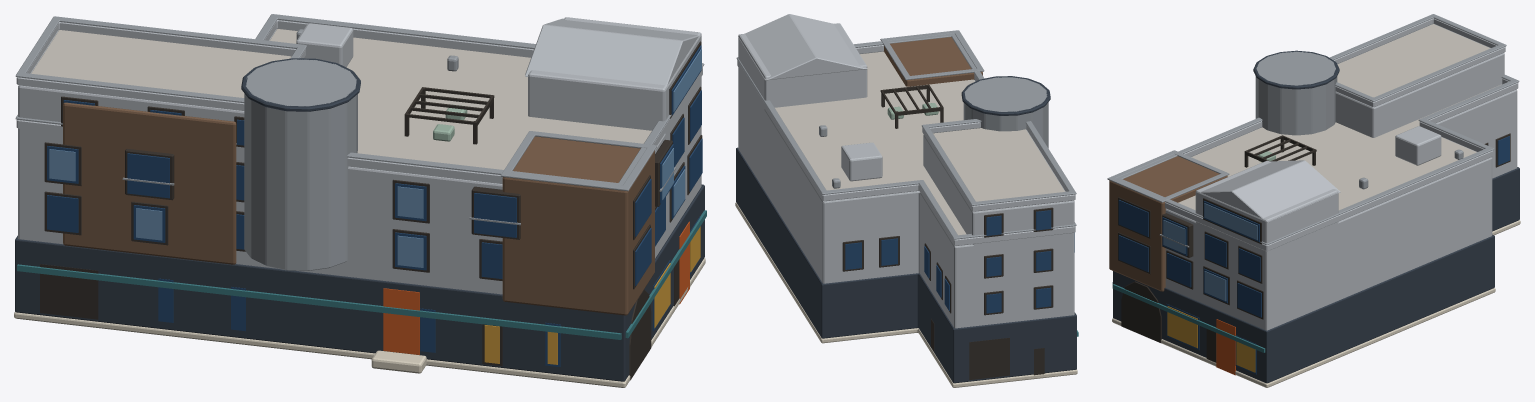
Rendered from 96-south-park.glb.
3 views of the same model, side by side, from view 1: azimuth 30°, elevation 25°; view 2: azimuth 150°, elevation 25°; view 3: azimuth 270°, elevation 25° (orthographic). The views are drawn at different scales.
Visible parts, largest first — view 1: brick_base, cylinder, bronze_corner, alley_bronze, deck_main, body, deck_upb, gable, upper_front, band_alley, parapet_main, plinth (+30 smaller); view 2: body, brick_base, deck_main, deck_upb, gable, upper_front, upper_rear, cylinder, bronze_corner, coping_main, parapet_main, plinth (+14 smaller); view 3: body, brick_base, deck_main, cylinder, deck_upb, bronze_corner, upper_rear, gable, upper_front, parapet_main, coping_main, parapet_upb (+20 smaller).
Part boxes in pixels (x1,y1,x2,y2): brick_base: [15, 184, 704, 381]; cylinder: [244, 59, 357, 270]; bronze_corner: [502, 136, 654, 315]; alley_bronze: [63, 102, 236, 264]; deck_main: [269, 29, 651, 169]; body: [18, 29, 701, 294]; deck_upb: [31, 30, 291, 97]; gable: [525, 18, 698, 85]; upper_front: [528, 17, 701, 139]; band_alley: [17, 264, 621, 339]; parapet_main: [16, 20, 702, 183]; plinth: [14, 258, 705, 387]; body: [738, 69, 1074, 328]; brick_base: [736, 147, 1076, 383]; deck_main: [775, 51, 974, 235]; deck_upb: [933, 128, 1064, 201]; gable: [738, 14, 867, 80]; upper_front: [738, 23, 867, 114]; upper_rear: [923, 130, 1074, 250]; cylinder: [963, 77, 1048, 148]; bronze_corner: [883, 37, 982, 86]; coping_main: [736, 33, 1076, 239]; parapet_main: [737, 45, 1075, 245]; plinth: [735, 202, 1077, 387]; body: [1165, 89, 1517, 330]; brick_base: [1113, 167, 1519, 383]; deck_main: [1178, 84, 1501, 210]; cylinder: [1255, 51, 1337, 135]; deck_upb: [1337, 24, 1490, 97]; bronze_corner: [1109, 156, 1227, 291]; upper_rear: [1335, 24, 1504, 137]; gable: [1201, 160, 1340, 222]; upper_front: [1195, 160, 1338, 257]; parapet_main: [1165, 78, 1518, 251]; coping_main: [1116, 75, 1519, 245]; parapet_upb: [1334, 18, 1505, 107].
Size of the model in its own units: 31.81 by 13.7 by 27.62.
